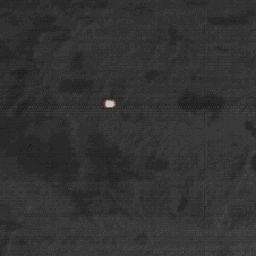Target: (104, 98, 115, 110)
